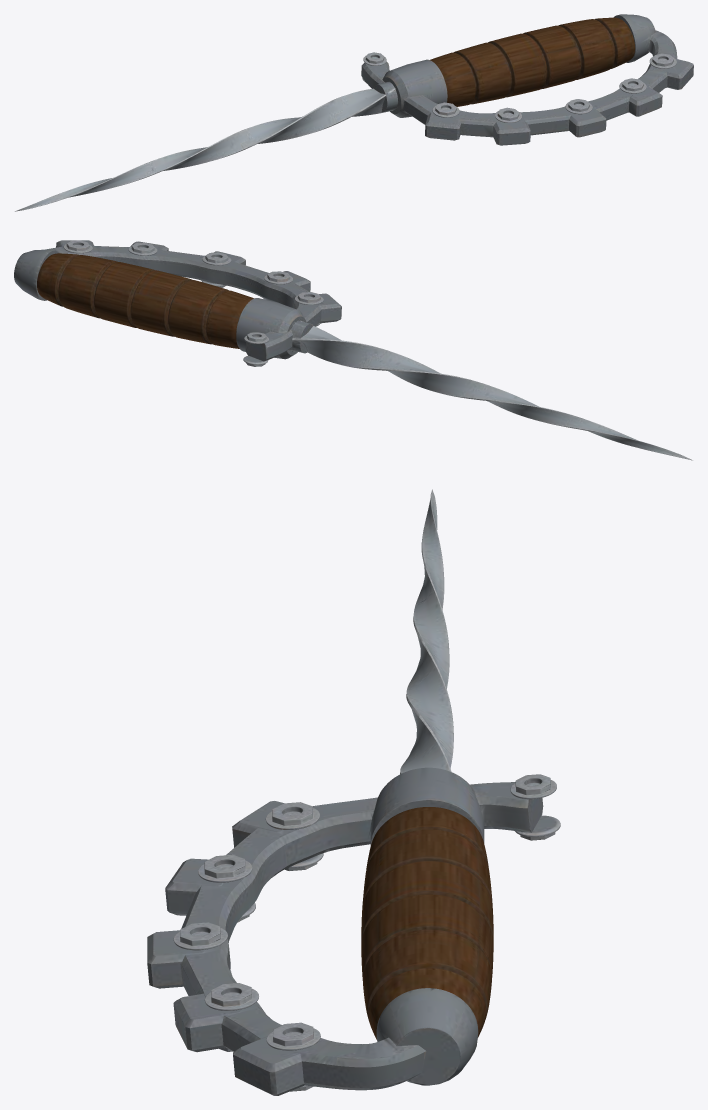
The model's file is knife-mobile.glb.
The picture shows the model from 3 angles, top to bottom: view 1: azimuth 30°, elevation 25°; view 2: azimuth 150°, elevation 25°; view 3: azimuth 270°, elevation 25°; orthographic projection. The views are drawn at different scales.
Parts seen in each view (by area): view 1: LetterOpener_Connected_Metal, LetterOpener_Solid_Carved_Wood, LetterOpener_Rivet_Hardware; view 2: LetterOpener_Connected_Metal, LetterOpener_Solid_Carved_Wood, LetterOpener_Rivet_Hardware; view 3: LetterOpener_Connected_Metal, LetterOpener_Solid_Carved_Wood, LetterOpener_Rivet_Hardware.
Part boxes in pixels (left/top/right/bottom): LetterOpener_Connected_Metal: left=15, top=14, right=693, bottom=211; LetterOpener_Solid_Carved_Wood: left=430, top=17, right=635, bottom=106; LetterOpener_Rivet_Hardware: left=362, top=52, right=676, bottom=122; LetterOpener_Connected_Metal: left=14, top=240, right=692, bottom=460; LetterOpener_Solid_Carved_Wood: left=37, top=253, right=253, bottom=348; LetterOpener_Rivet_Hardware: left=63, top=240, right=323, bottom=366; LetterOpener_Connected_Metal: left=147, top=489, right=543, bottom=1095; LetterOpener_Solid_Carved_Wood: left=361, top=807, right=493, bottom=1039; LetterOpener_Rivet_Hardware: left=173, top=774, right=560, bottom=1091.
Bounding box in the file's own units: 0.2397 × 0.0182 × 0.0667.
Materials: 1 (1 with a texture image).
